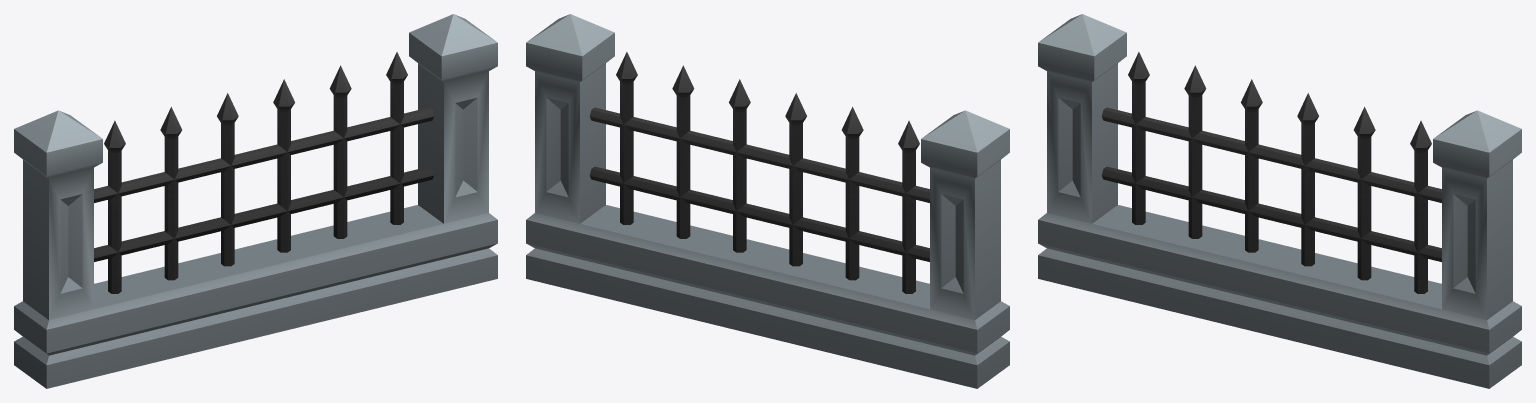
Rendered from fence.obj.
3 renders of one model, left to right at view 1: azimuth 30°, elevation 25°; view 2: azimuth 150°, elevation 25°; view 3: azimuth 330°, elevation 25°, orthographic.
Visible parts, largest first — view 1: fence_Cube.045; view 2: fence_Cube.045; view 3: fence_Cube.045.
Part boxes in pixels (x1,y1,x2,y2): fence_Cube.045: (14,14,497,388); fence_Cube.045: (526,14,1009,388); fence_Cube.045: (1038,14,1521,388).
Size of the model in its own units: 4 by 2.2 by 0.5.
1 material, 1 textured.
